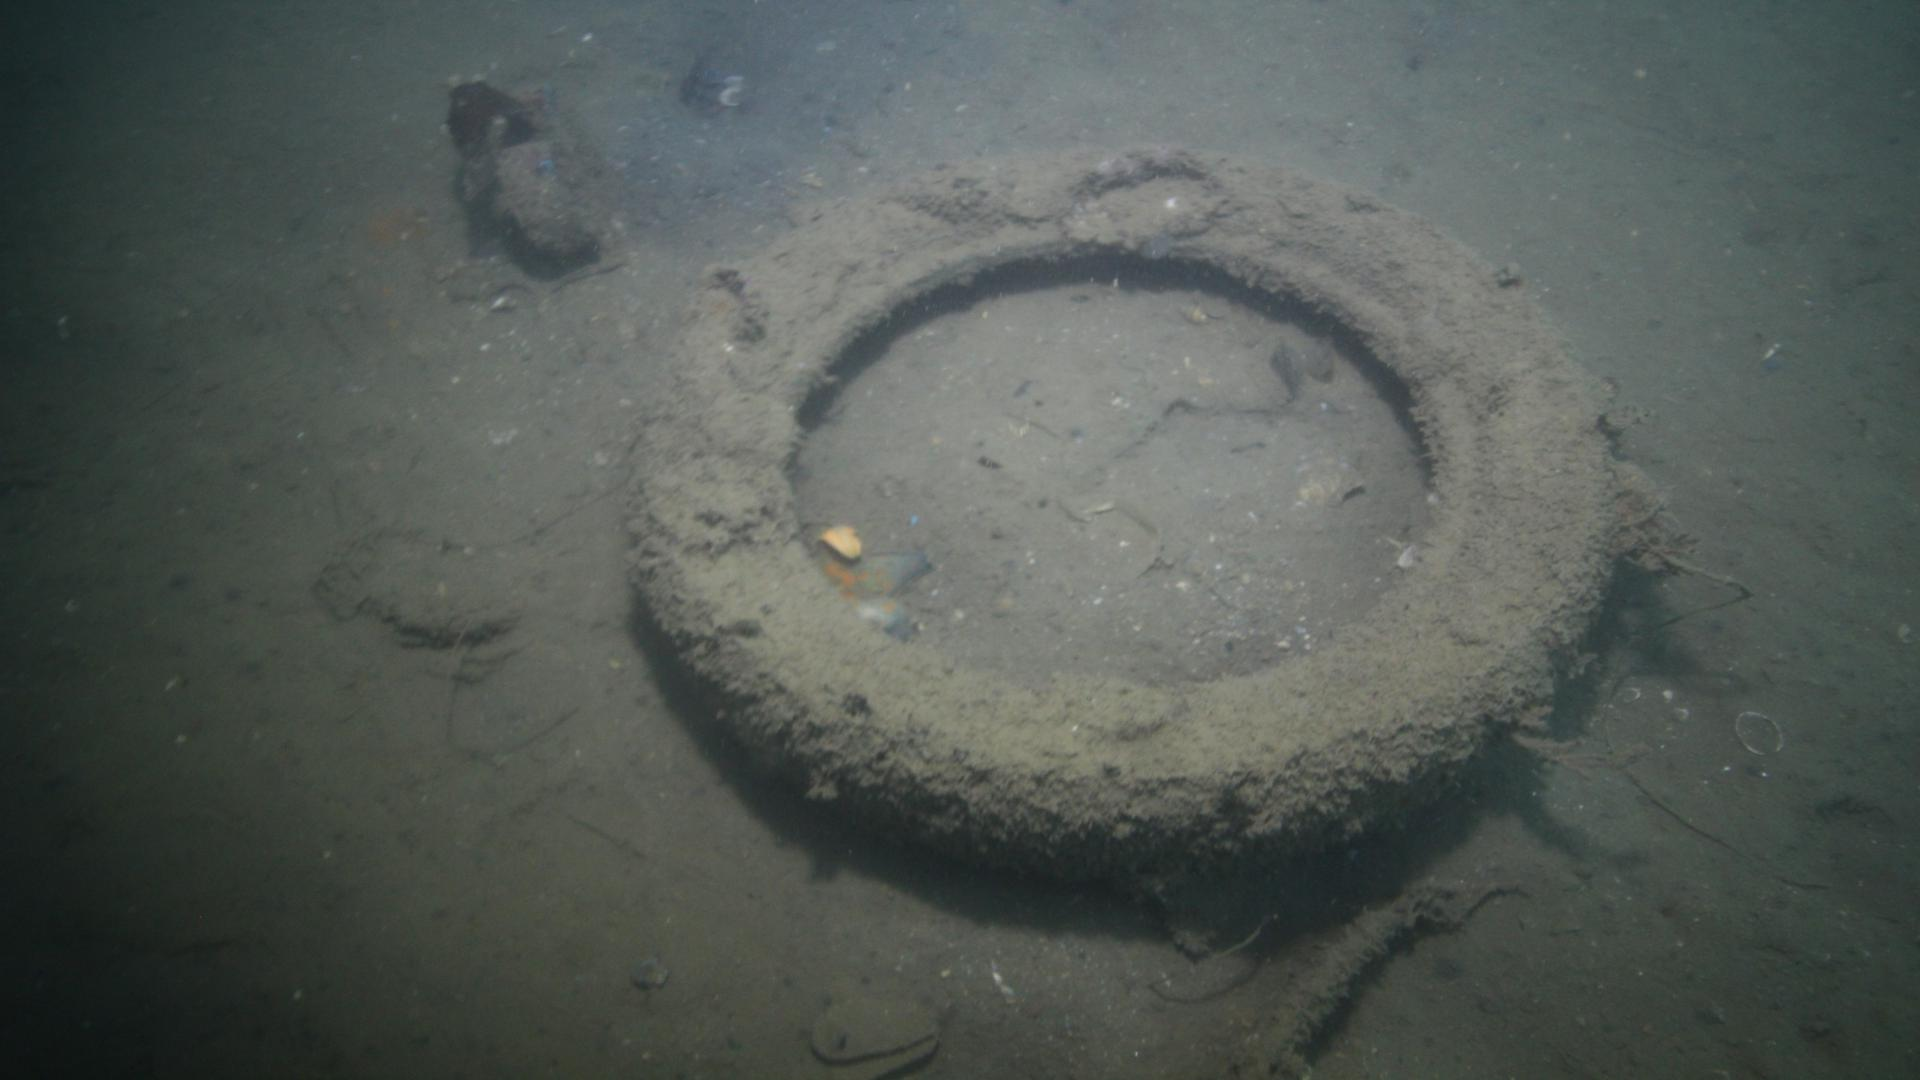tire: (621, 142, 1618, 895)
